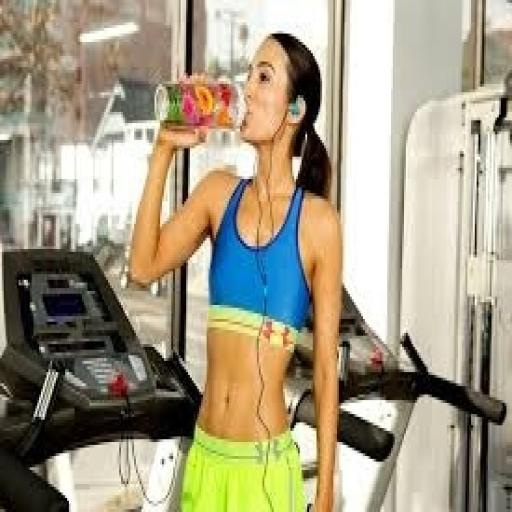running: (127, 28, 346, 509)
